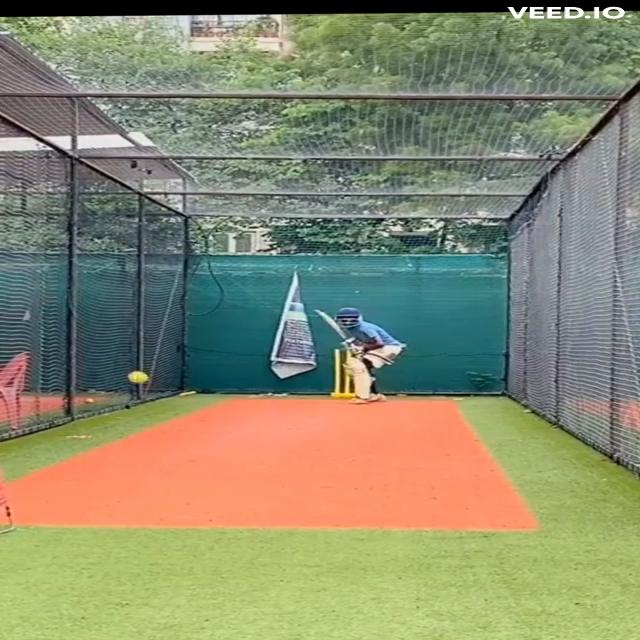ball: (126, 368, 150, 384)
stump: (331, 348, 356, 396)
